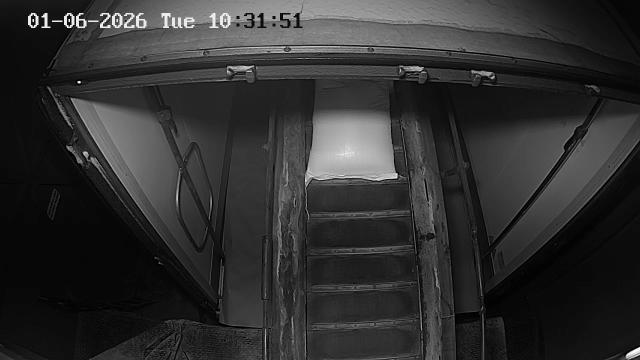bag: (306, 81, 397, 187)
